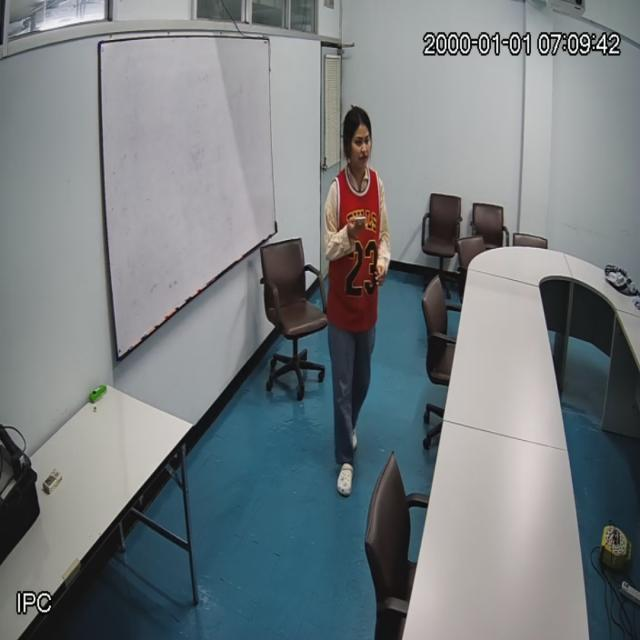normal: (325, 104, 391, 468)
